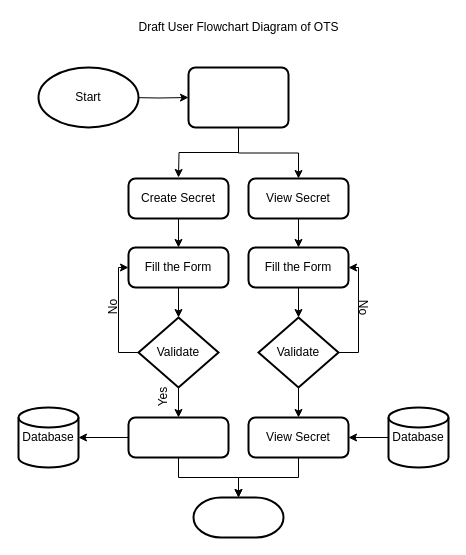
The diagram is 466 pixels wide and 555 high, and some of its shapes have lost their labels. The centre of each missing label's shape, as x and y in pixels:
"Customer Arrives at OTS Website" belongs at (x=238, y=97).
"End" belongs at (x=238, y=517).
"Store Secret" belongs at (x=178, y=437).
